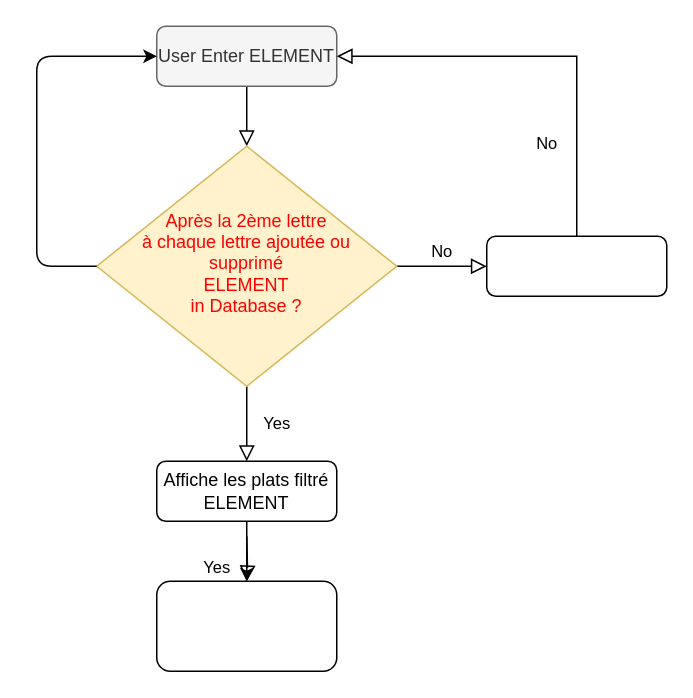
Image size: 693x698. Some labels were removed from this diagram. Here are the shapes that lost their labels. From the top down, the centre of each, then its label:
At pixel 576 265: "Pas d'affichage".
At pixel 246 625: "L'utilisateur selectionne le plat dans l'affichage filtré".
